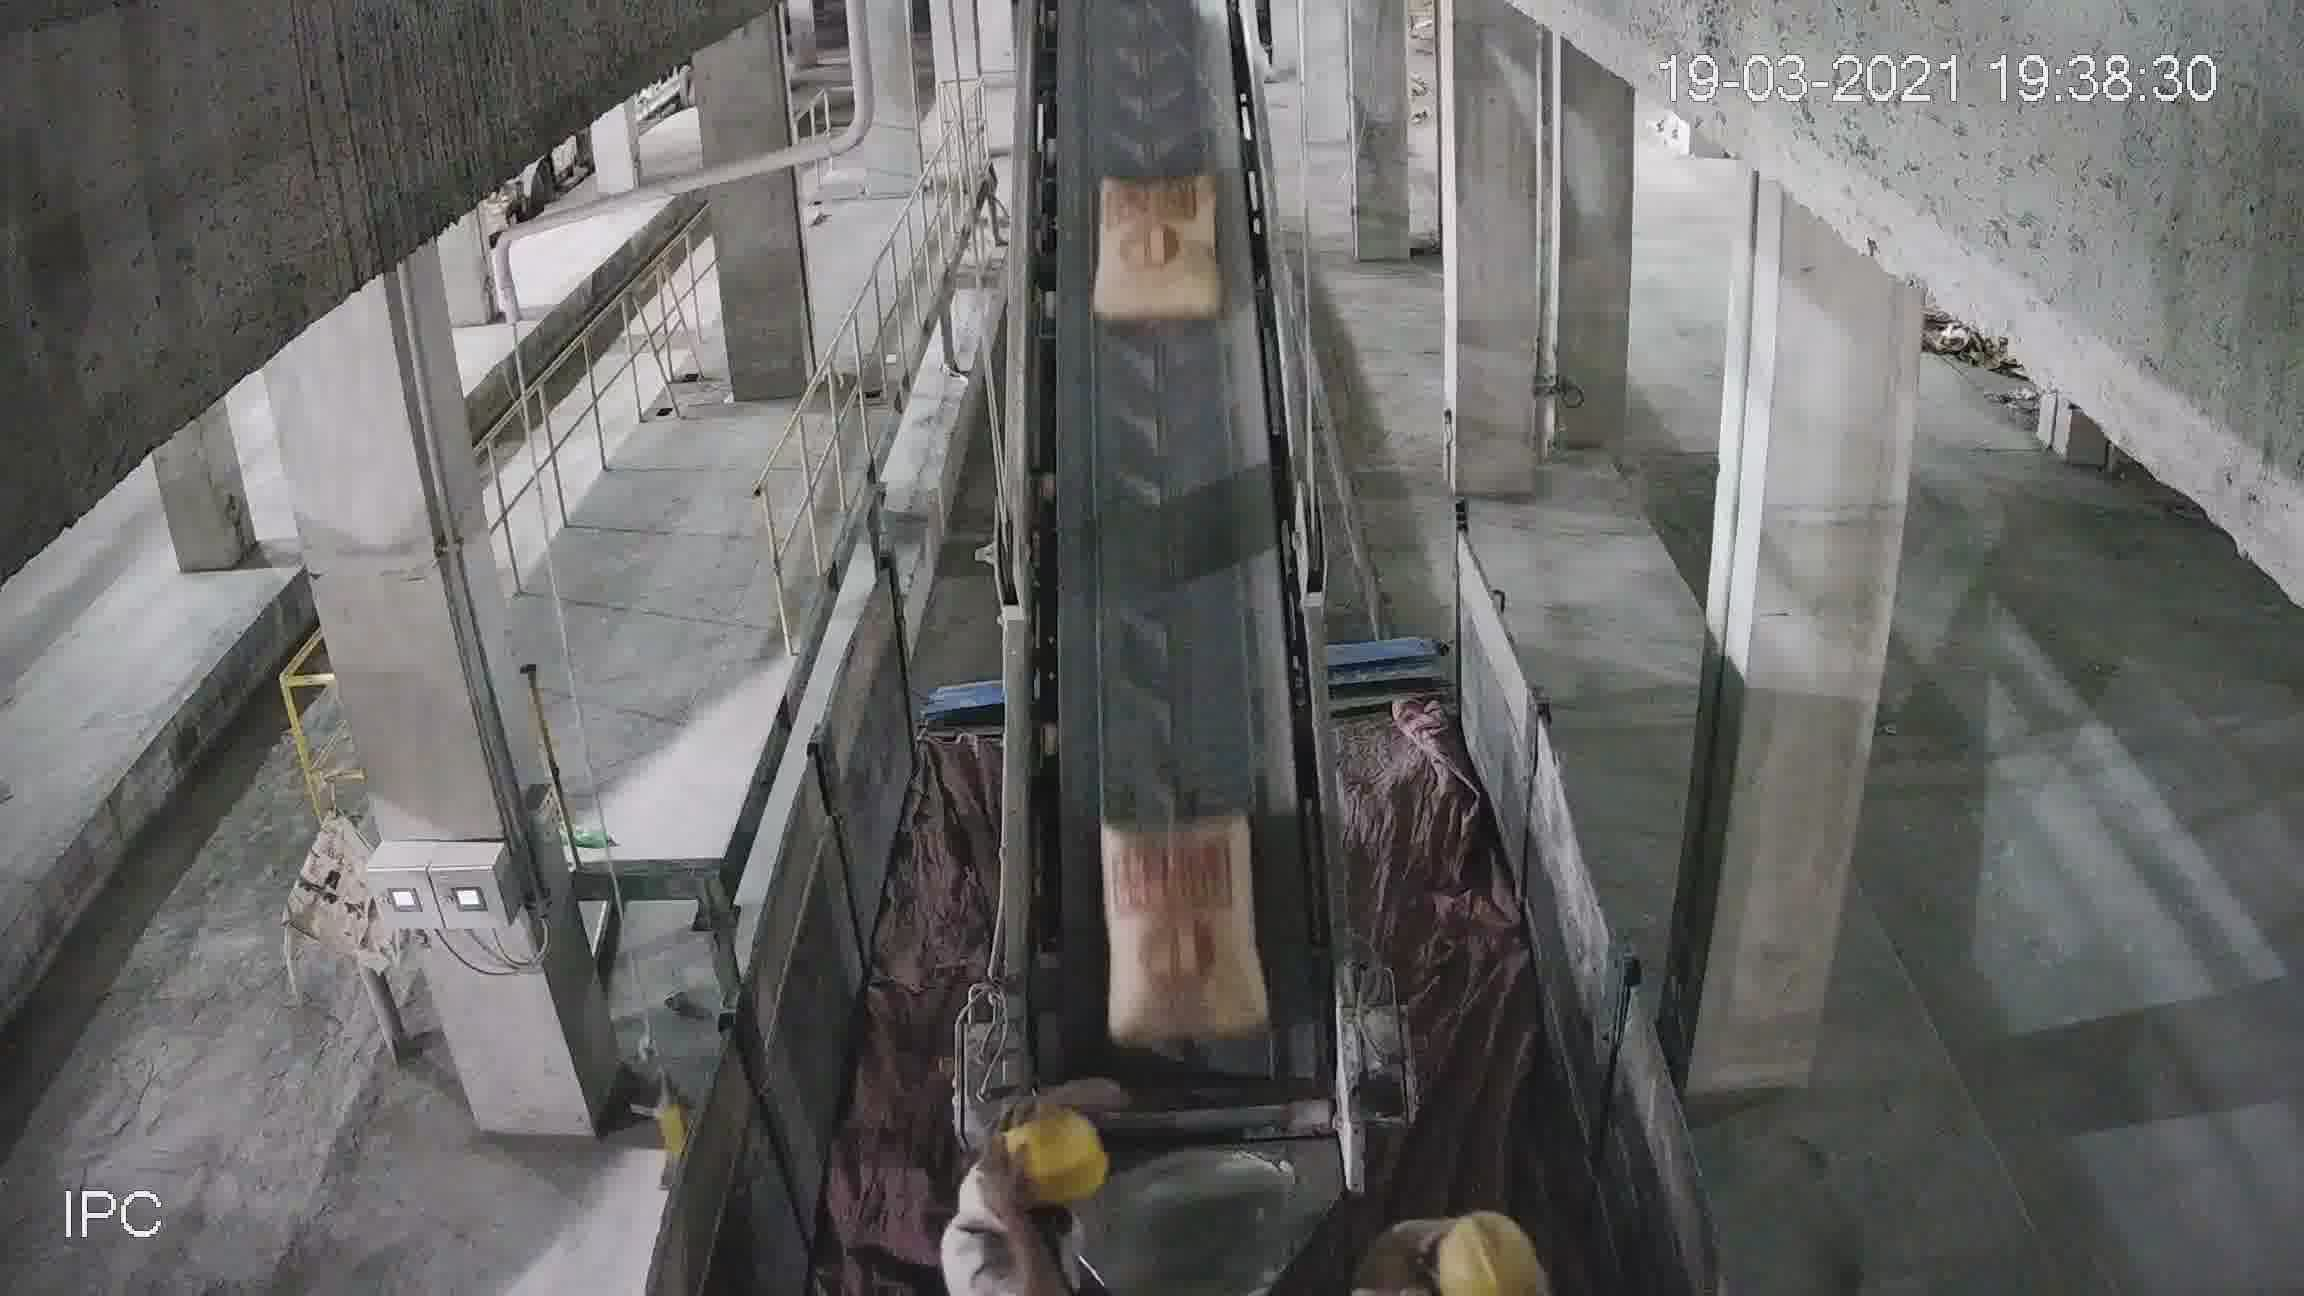bag: (1106, 812, 1256, 1036), (1097, 177, 1217, 324)
belt: (992, 117, 1359, 1211)
